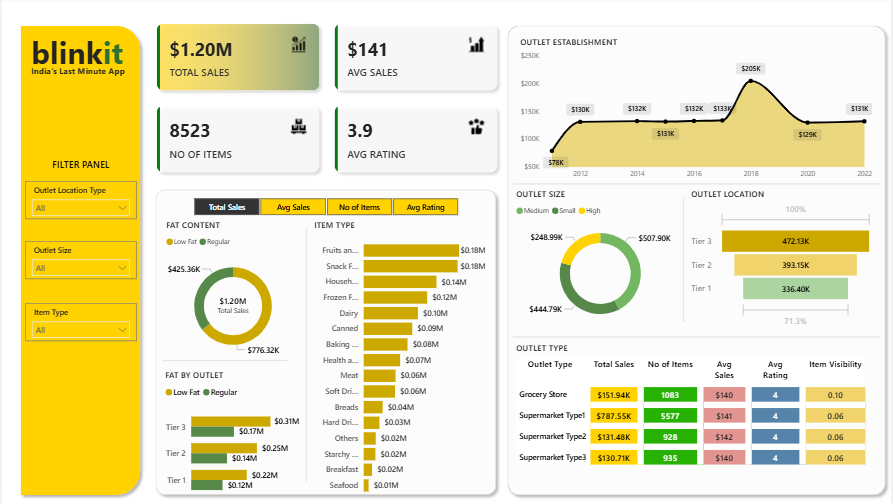

The dashboard page shown, as its layout file describes it:
{"tool":"powerbi","page":{"name":"Page 1","canvas":[1400,800],"ordinal":0},"visuals":[{"type":"shape","box":[20.6,36.5,206.3,757.1],"z":0},{"type":"textbox","box":[40.9,48.8,166.9,81.9],"z":1000},{"type":"textbox","box":[40.9,102.4,166.9,28.3],"z":2000},{"type":"cardVisual","fields":{"Data":["BlinkIT Grocery Data.Total Sales","BlinkIT Grocery Data.Avg Sales","BlinkIT Grocery Data.No of Items","BlinkIT Grocery Data.Avg Rating"]},"box":[226.8,25.2,570.1,269.3],"z":3000},{"type":"shape","box":[233.3,295.2,554,498.4],"z":4000},{"type":"donutChart","title":"FAT CONTENT","fields":{"Y":["BlinkIT Grocery Data.Total Sales"],"Category":["BlinkIT Grocery Data.Item Fat Content"]},"box":[253.5,349.6,220.5,229.9],"z":5000},{"type":"slicer","fields":{"Values":["Metrics.Metrics"]},"box":[277.8,309.5,465.1,39.7],"z":6000},{"type":"cardVisual","fields":{"Data":["BlinkIT Grocery Data.Total Sales"]},"box":[315.9,452.4,95.2,66.7],"z":7000},{"type":"clusteredBarChart","title":"FAT BY OUTLET","fields":{"Y":["BlinkIT Grocery Data.Total Sales"],"Category":["BlinkIT Grocery Data.Outlet Location Type"],"Series":["BlinkIT Grocery Data.Item Fat Content"]},"box":[252.4,585.7,220.6,214.3],"z":8000},{"type":"shape","box":[252.4,565.1,198.4,14.3],"z":9000},{"type":"shape","box":[473,365.1,14.3,398.4],"z":10000},{"type":"barChart","title":"ITEM TYPE","fields":{"Y":["BlinkIT Grocery Data.Total Sales"],"Category":["BlinkIT Grocery Data.Item Type"]},"box":[487.3,349.2,279.4,444.4],"z":11000},{"type":"shape","box":[787.3,36.5,612.7,757.1],"z":12000},{"type":"lineChart","title":"OUTLET ESTABLISHMENT","fields":{"Y":["BlinkIT Grocery Data.Total Sales"],"Category":["BlinkIT Grocery Data.Outlet Establishment Year"]},"box":[810.9,60.9,564.1,234.4],"z":13000},{"type":"shape","box":[804.7,285.9,578.1,15.6],"z":14000},{"type":"donutChart","title":"OUTLET SIZE","fields":{"Y":["BlinkIT Grocery Data.Total Sales"],"Category":["BlinkIT Grocery Data.Outlet Size"]},"box":[804.7,301.6,275,225],"z":15000},{"type":"shape","box":[1065.6,315.6,14.1,196.9],"z":16000},{"type":"funnel","title":"OUTLET LOCATION","fields":{"Category":["BlinkIT Grocery Data.Outlet Location Type"],"Y":["Sum(BlinkIT Grocery Data.Sales)"]},"box":[1079.7,301.6,295.3,225],"z":17000},{"type":"shape","box":[804.7,528.1,578.1,15.6],"z":18000},{"type":"pivotTable","title":"OUTLET TYPE","fields":{"Rows":["BlinkIT Grocery Data.Outlet Type"],"Values":["BlinkIT Grocery Data.Total Sales","BlinkIT Grocery Data.No of Items","BlinkIT Grocery Data.Avg Sales","BlinkIT Grocery Data.Avg Rating","Avg(BlinkIT Grocery Data.Item Visibility)"]},"box":[804.7,543.8,570.3,228.1],"z":19000},{"type":"slicer","fields":{"Values":["BlinkIT Grocery Data.Outlet Location Type"]},"box":[36.2,289.8,176.4,59.8],"z":19001},{"type":"slicer","fields":{"Values":["BlinkIT Grocery Data.Outlet Size"]},"box":[36.2,384.3,176.4,59.8],"z":19002},{"type":"slicer","fields":{"Values":["BlinkIT Grocery Data.Item Type"]},"box":[36.2,481.9,176.4,59.8],"z":19003},{"type":"textbox","box":[58.3,248.8,132.3,37.8],"z":19004}]}

Visuals, with their boxes in screenshot pixels (x1, y1, x2, y2), scaled from the page's 1400x800 canvas onto the 893x504 screenshot:
shape: bbox(13, 23, 145, 500)
textbox: bbox(26, 31, 133, 82)
textbox: bbox(26, 65, 133, 82)
cardVisual - BlinkIT Grocery Data.Total Sales x BlinkIT Grocery Data.Avg Sales: bbox(145, 16, 508, 186)
shape: bbox(149, 186, 502, 500)
"FAT CONTENT" donutChart: bbox(162, 220, 302, 365)
slicer - Metrics.Metrics: bbox(177, 195, 474, 220)
cardVisual - BlinkIT Grocery Data.Total Sales: bbox(201, 285, 262, 327)
"FAT BY OUTLET" clusteredBarChart: bbox(161, 369, 302, 503)
shape: bbox(161, 356, 288, 365)
shape: bbox(302, 230, 311, 481)
"ITEM TYPE" barChart: bbox(311, 220, 489, 500)
shape: bbox(502, 23, 892, 500)
"OUTLET ESTABLISHMENT" lineChart: bbox(517, 38, 877, 186)
shape: bbox(513, 180, 882, 190)
"OUTLET SIZE" donutChart: bbox(513, 190, 689, 332)
shape: bbox(680, 199, 689, 323)
"OUTLET LOCATION" funnel: bbox(689, 190, 877, 332)
shape: bbox(513, 333, 882, 343)
"OUTLET TYPE" pivotTable: bbox(513, 343, 877, 486)
slicer - BlinkIT Grocery Data.Outlet Location Type: bbox(23, 183, 136, 220)
slicer - BlinkIT Grocery Data.Outlet Size: bbox(23, 242, 136, 280)
slicer - BlinkIT Grocery Data.Item Type: bbox(23, 304, 136, 341)
textbox: bbox(37, 157, 122, 181)
